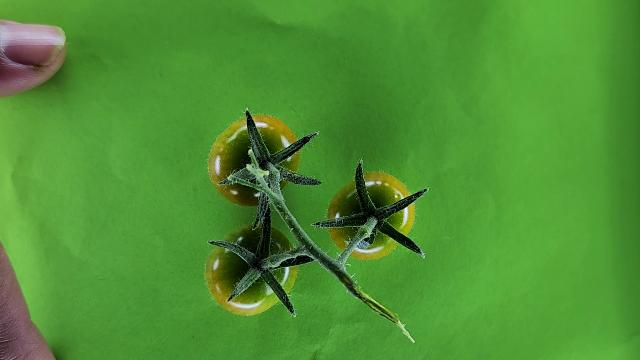Fully Grown: (205, 221, 300, 315), (208, 114, 303, 207), (326, 172, 416, 259)
